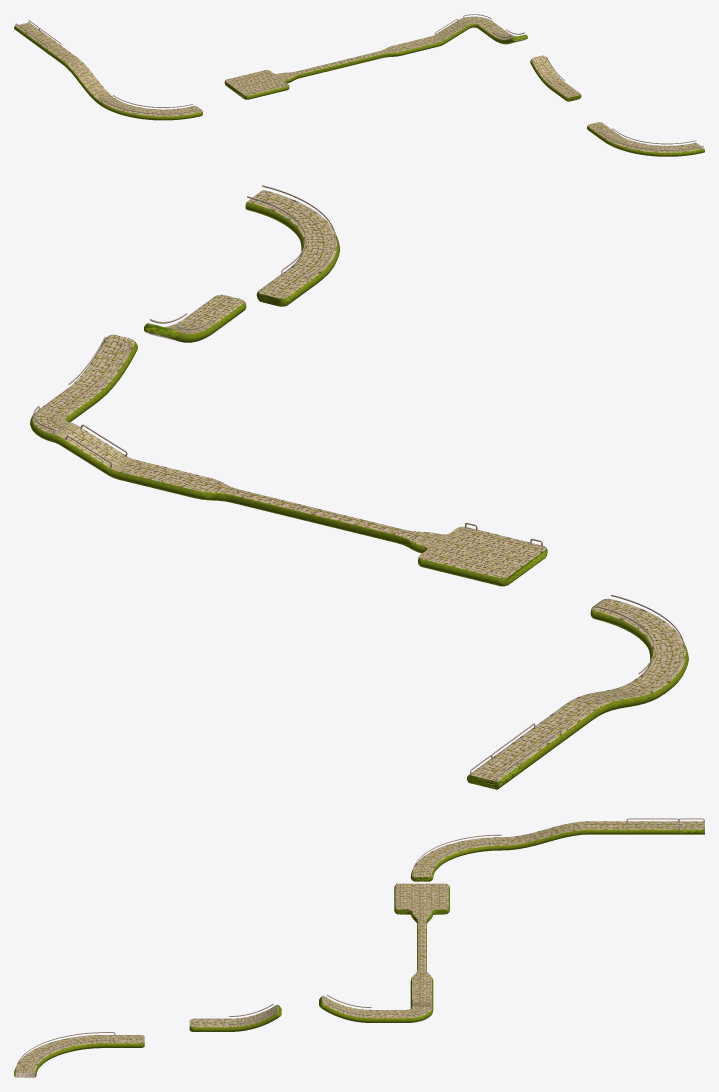
Rendered from map39.fbx.
3 renders of one model, top to bottom at view 1: azimuth 30°, elevation 25°; view 2: azimuth 150°, elevation 25°; view 3: azimuth 270°, elevation 25°, orthographic. The views are drawn at different scales.
Parts seen in each view (by area): view 1: Normal; view 2: Normal; view 3: Normal.
Part boxes in pixels (x1,y1,x2,y2): Normal: (14, 14, 704, 156); Normal: (30, 185, 688, 789); Normal: (14, 818, 704, 1077).
Bounding box in the file's own units: 12725 × 1180 × 15631.
6 materials, 6 textured.
